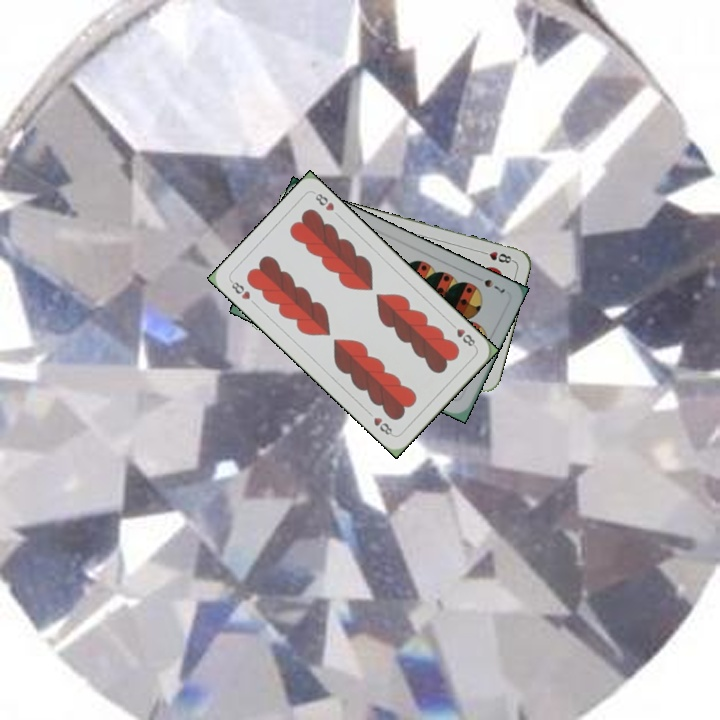H8: (446, 319, 479, 350), (476, 247, 516, 266), (226, 276, 253, 302)
S7: (471, 272, 508, 295)
